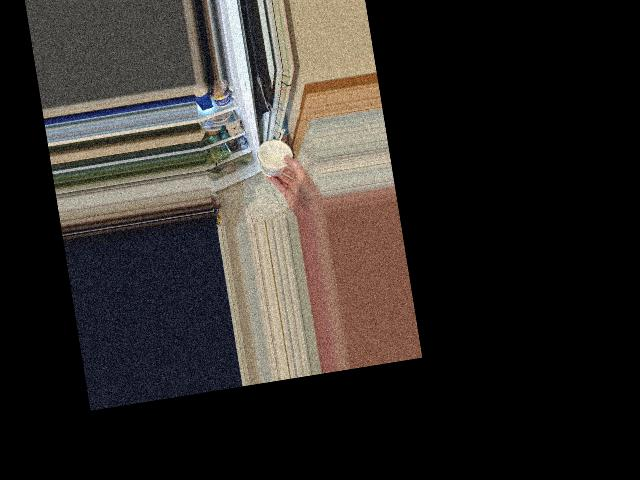cotage: (257, 134, 293, 178)
